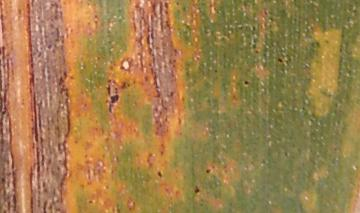tarspot: (145, 151, 155, 168), (59, 83, 69, 97), (110, 93, 120, 106), (163, 18, 172, 30), (92, 13, 99, 26), (230, 92, 239, 102), (105, 83, 111, 97), (119, 80, 127, 90), (193, 185, 200, 196), (262, 7, 269, 18), (107, 103, 113, 115), (241, 78, 250, 86), (113, 84, 120, 94), (275, 56, 283, 64), (162, 1, 170, 9), (204, 166, 211, 175), (156, 169, 163, 178), (69, 73, 76, 82), (172, 48, 179, 57), (62, 69, 67, 81), (252, 48, 260, 55), (82, 102, 89, 110), (45, 42, 52, 50), (193, 54, 201, 61), (108, 64, 115, 72), (86, 199, 95, 205), (176, 116, 182, 125), (159, 141, 165, 150), (251, 25, 257, 34), (180, 95, 185, 104), (212, 68, 219, 74), (58, 76, 64, 83), (324, 38, 330, 45), (283, 150, 288, 158), (169, 90, 174, 98), (73, 138, 78, 146), (352, 8, 358, 14), (171, 63, 177, 69), (259, 158, 265, 164), (95, 55, 101, 61), (163, 9, 169, 15), (159, 150, 164, 157), (174, 1, 180, 6), (172, 57, 176, 64), (120, 65, 125, 70), (105, 78, 111, 82)
